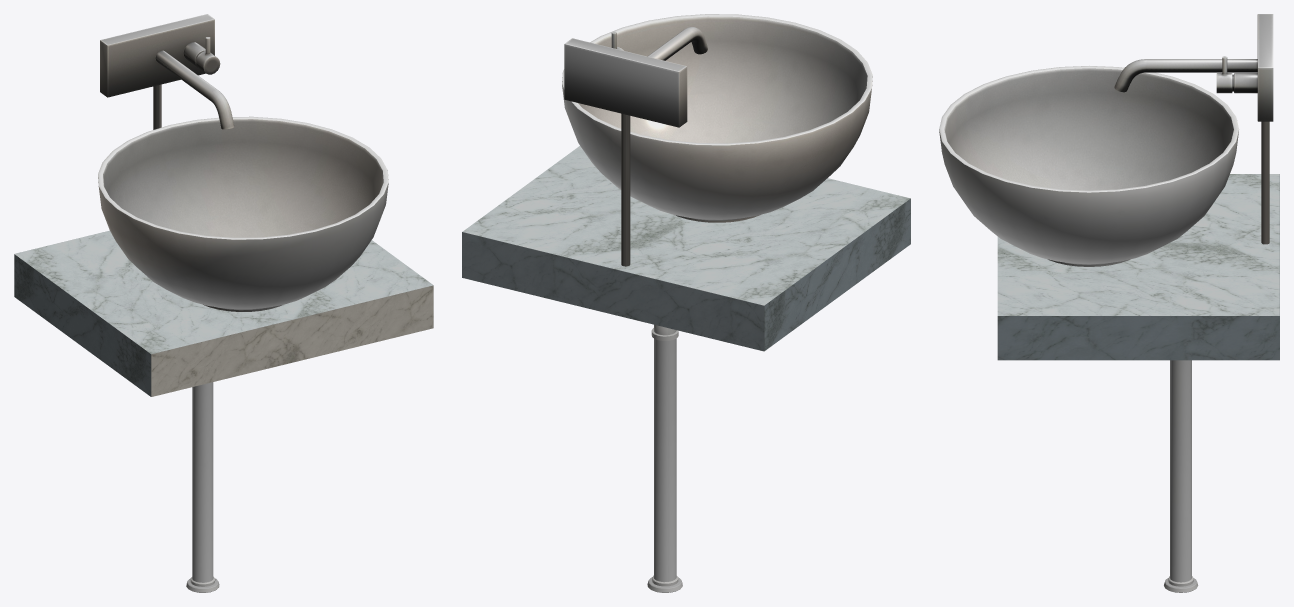
File: round_sink 1.fbx
3 renders of one model, left to right at view 1: azimuth 30°, elevation 25°; view 2: azimuth 150°, elevation 25°; view 3: azimuth 270°, elevation 25°, orthographic. The views are drawn at different scales.
Parts seen in each view (by area): view 1: round_sink; view 2: round_sink; view 3: round_sink.
Part boxes in pixels (box(x1,y1,x2,y2)): round_sink: box(14, 14, 433, 592); round_sink: box(462, 14, 910, 592); round_sink: box(939, 14, 1279, 592).
Size of the model in its own units: 0.7884 by 1.41 by 0.8001.
